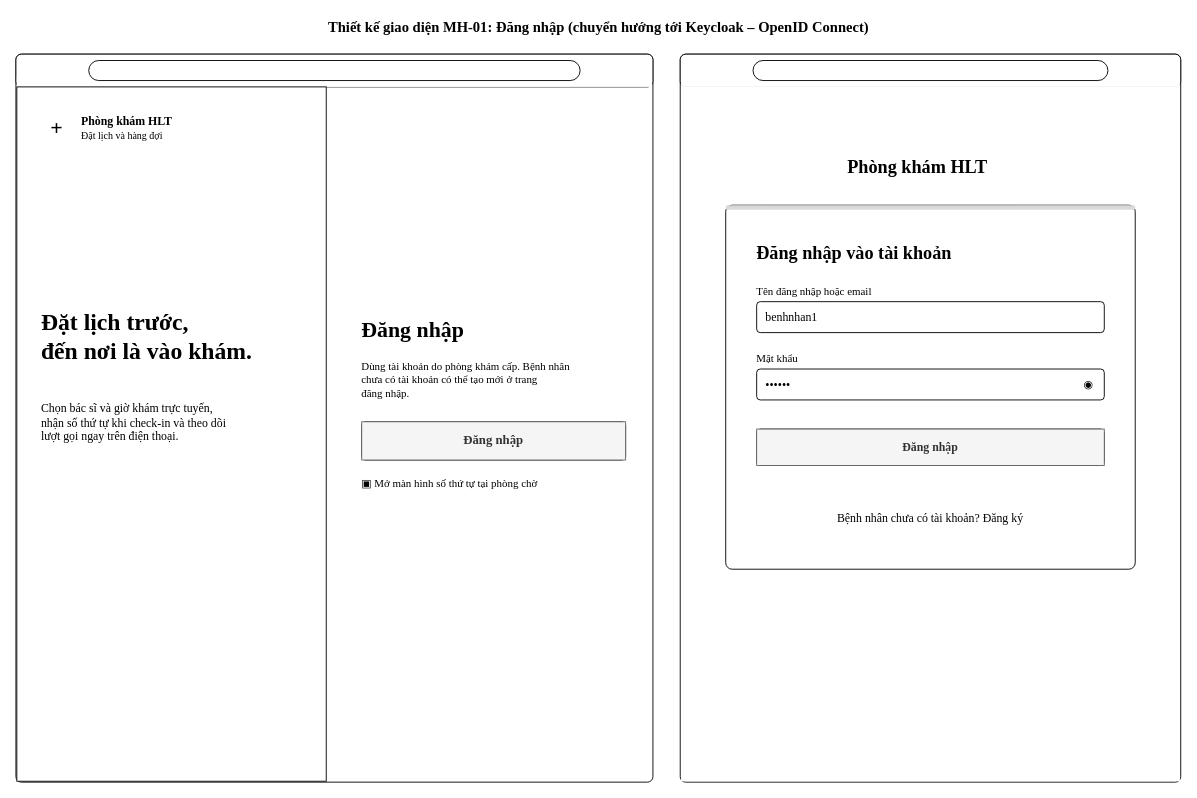
Image size: 1197x798. Some labels were removed from this diagram. The centre of each missing label's shape, as x and y in pixels:
"localhost:5173" goes at point (334, 70).
"localhost:8080/realms/hlt01/…/auth" goes at point (930, 70).
